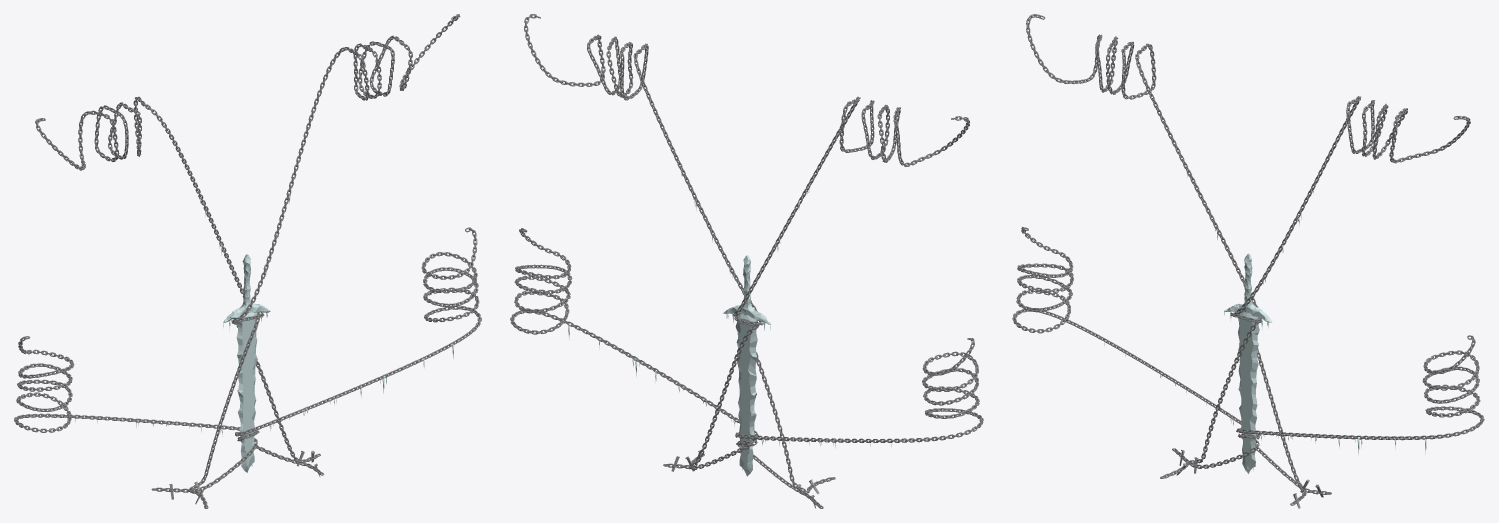
The model's file is Chains.fbx.
3 views of the same model, side by side, from view 1: azimuth 30°, elevation 25°; view 2: azimuth 150°, elevation 25°; view 3: azimuth 330°, elevation 25° (orthographic).
Visible parts, largest first — view 1: Chain_Link_04, Chain_Link_02, Chain_Link_03, Chain_Link_01, Ice_Cover; view 2: Chain_Link_04, Chain_Link_03, Chain_Link_02, Chain_Link_01, Ice_Cover; view 3: Chain_Link_03, Chain_Link_04, Chain_Link_01, Chain_Link_02, Ice_Cover.
Part boxes in pixels (bbox=[...]): Chain_Link_04: bbox=[188, 14, 460, 508]; Chain_Link_02: bbox=[151, 227, 481, 492]; Chain_Link_03: bbox=[35, 96, 320, 463]; Chain_Link_01: bbox=[14, 336, 324, 475]; Ice_Cover: bbox=[223, 254, 270, 472]; Chain_Link_04: bbox=[524, 14, 835, 493]; Chain_Link_03: bbox=[663, 96, 969, 469]; Chain_Link_02: bbox=[510, 228, 823, 508]; Chain_Link_01: bbox=[689, 338, 983, 469]; Ice_Cover: bbox=[723, 255, 771, 476]; Chain_Link_03: bbox=[1026, 14, 1331, 494]; Chain_Link_04: bbox=[1160, 96, 1470, 478]; Chain_Link_01: bbox=[1012, 227, 1306, 505]; Chain_Link_02: bbox=[1172, 335, 1484, 468]; Ice_Cover: bbox=[1224, 253, 1272, 473].
Bounding box in the file's own units: 8.06 × 1.19 × 7.
